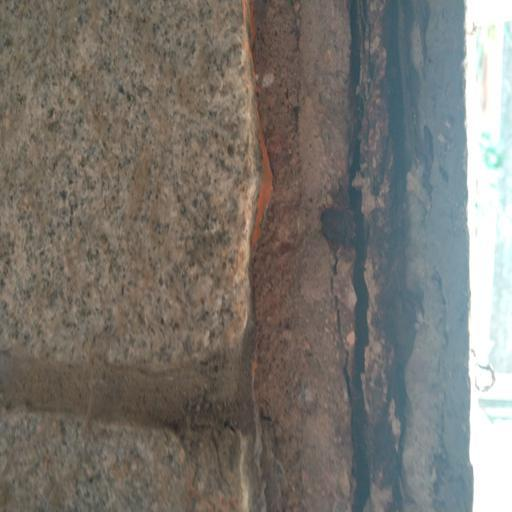spalling: (211, 15, 478, 512)
